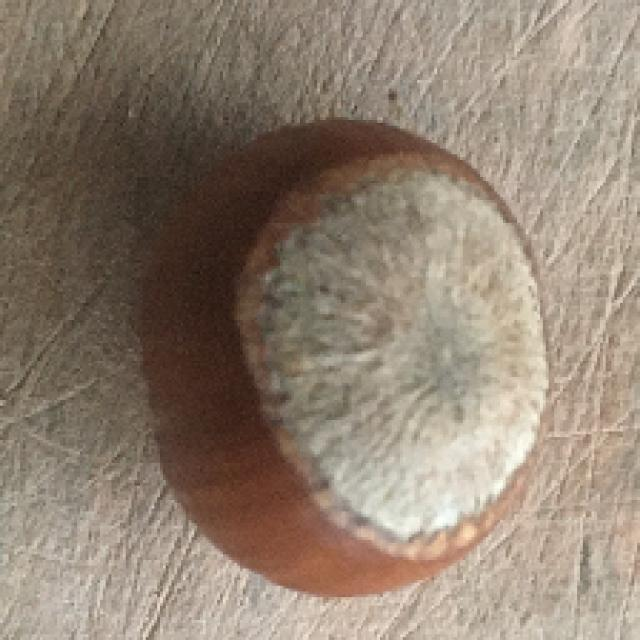QualityHazelnut: (148, 118, 550, 597)
